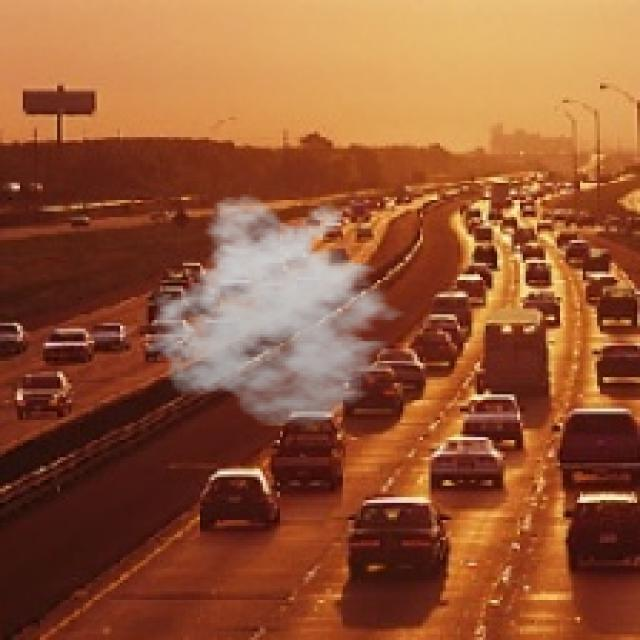smoke: (143, 194, 420, 429)
